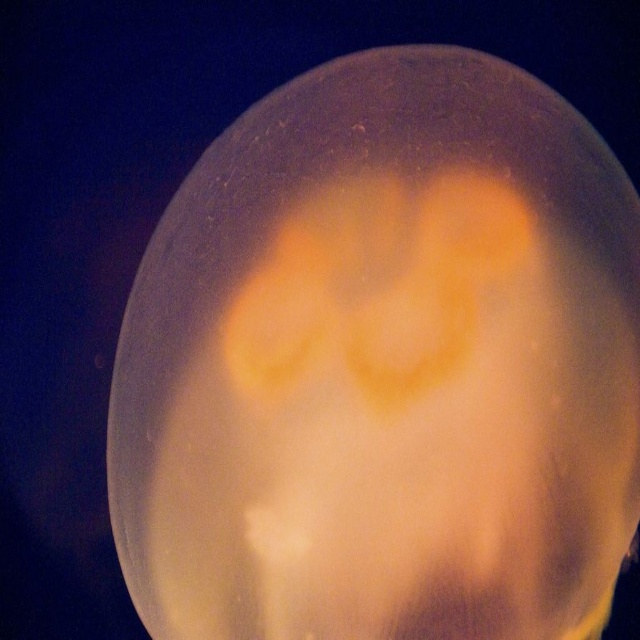Jellyfish: (103, 37, 640, 639)
